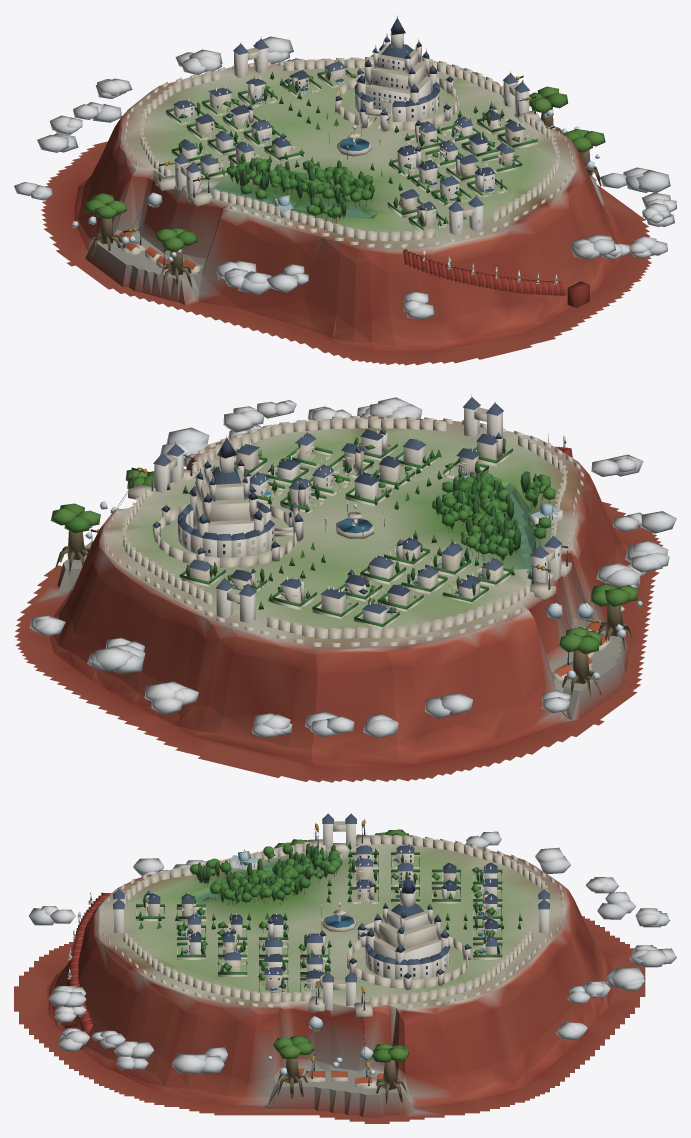
3 renders of one model, top to bottom at view 1: azimuth 30°, elevation 25°; view 2: azimuth 150°, elevation 25°; view 3: azimuth 270°, elevation 25°, orthographic. The views are drawn at different scales.
Parts seen in each view (by area): view 1: BASE, VILLE_2, VILLE_3; view 2: BASE, VILLE_2, VILLE_3; view 3: BASE, VILLE_2, VILLE_3.
Part boxes in pixels (<box>): BASE: <box>14,15,676,365</box>; VILLE_2: <box>195,69,514,211</box>; VILLE_3: <box>173,60,525,227</box>; BASE: <box>14,394,676,782</box>; VILLE_2: <box>210,431,503,605</box>; VILLE_3: <box>189,424,502,623</box>; BASE: <box>14,813,676,1123</box>; VILLE_2: <box>181,845,497,989</box>; VILLE_3: <box>145,844,500,992</box>.
Size of the model in its own units: 57.77 by 18.63 by 66.18.
